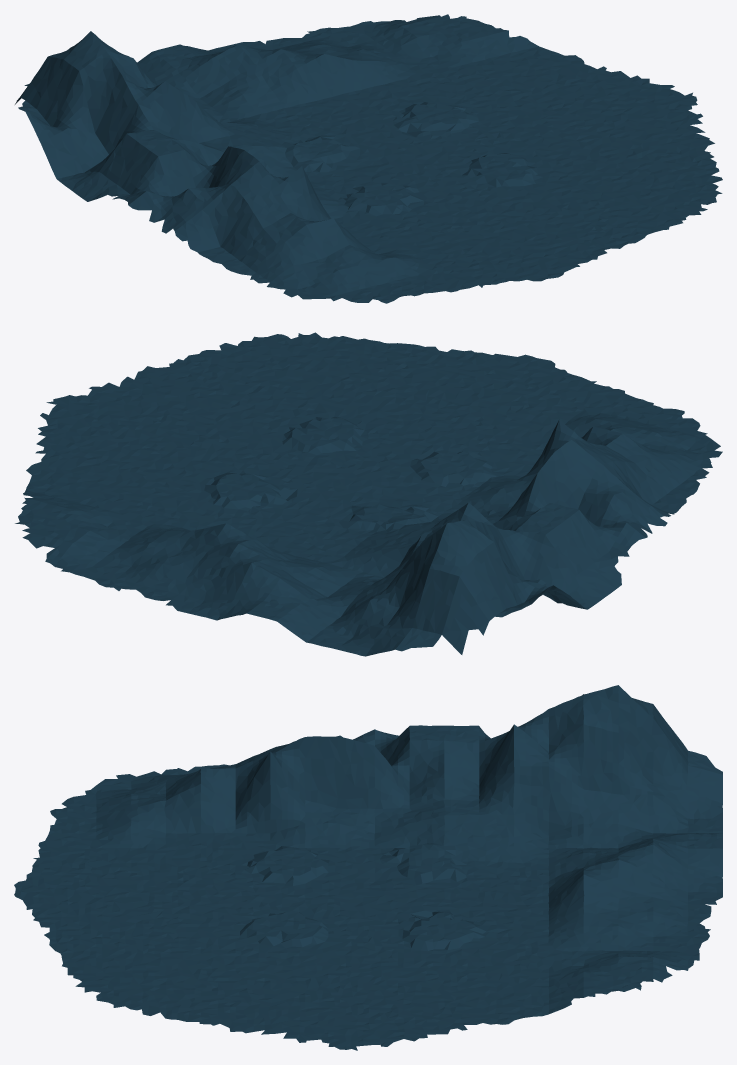
The model's file is Terrain9.glb.
3 renders of one model, top to bottom at view 1: azimuth 30°, elevation 25°; view 2: azimuth 150°, elevation 25°; view 3: azimuth 270°, elevation 25°, orthographic. The views are drawn at different scales.
Parts seen in each view (by area): view 1: Plane; view 2: Plane; view 3: Plane.
Boxes of the visible parts, <box> form: Plane: <box>15,14,722,303</box>; Plane: <box>15,332,722,656</box>; Plane: <box>14,685,722,1050</box>.
Bounding box in the file's own units: 198 × 32.64 × 194.
